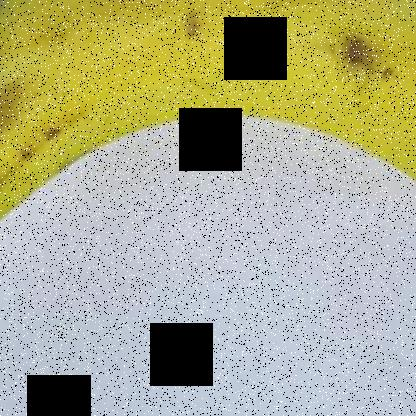freshripe: (1, 1, 415, 291)
